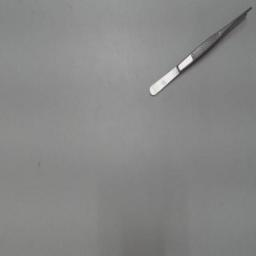Gillies Toothed Dissector: (142, 4, 254, 102)
